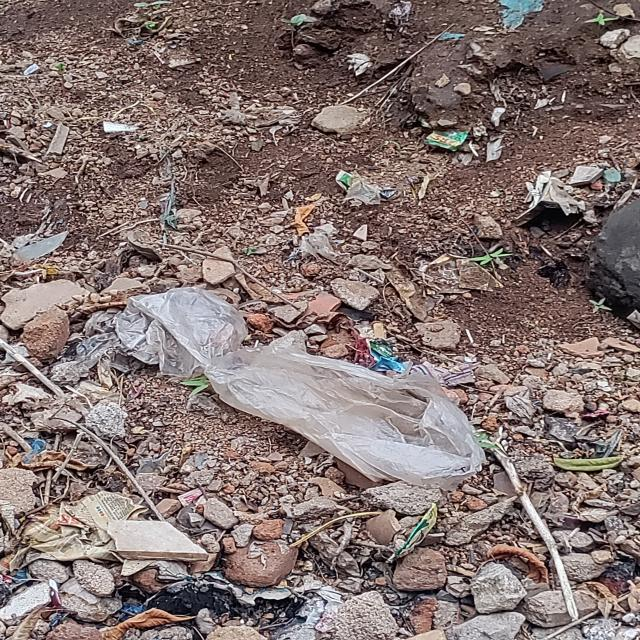dry: (119, 296, 488, 514), (417, 121, 475, 155)
